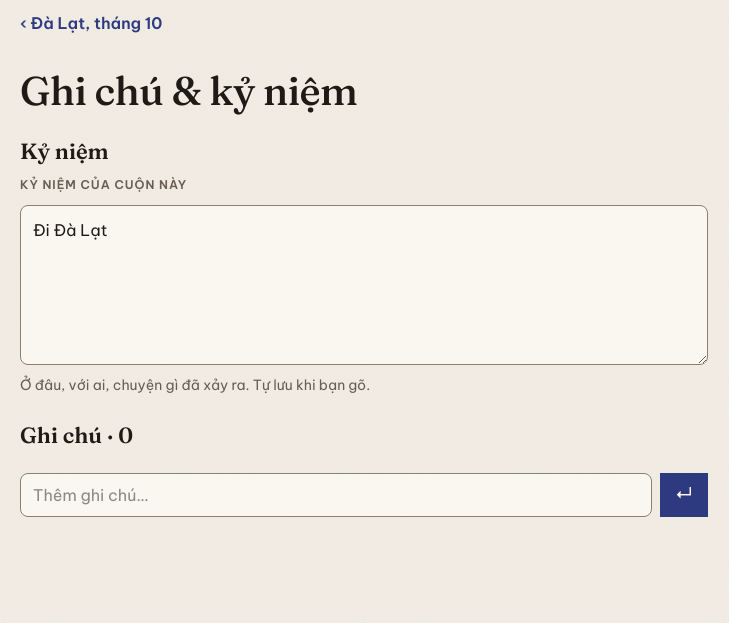
it: NotesMemory (NOTE-1, NotesMemory board) › adds a note from the composer
Type "lab ám xanh" into the field named "Ghi chú mới" at (336,495), box x1=20 y1=473 x2=652 y2=517
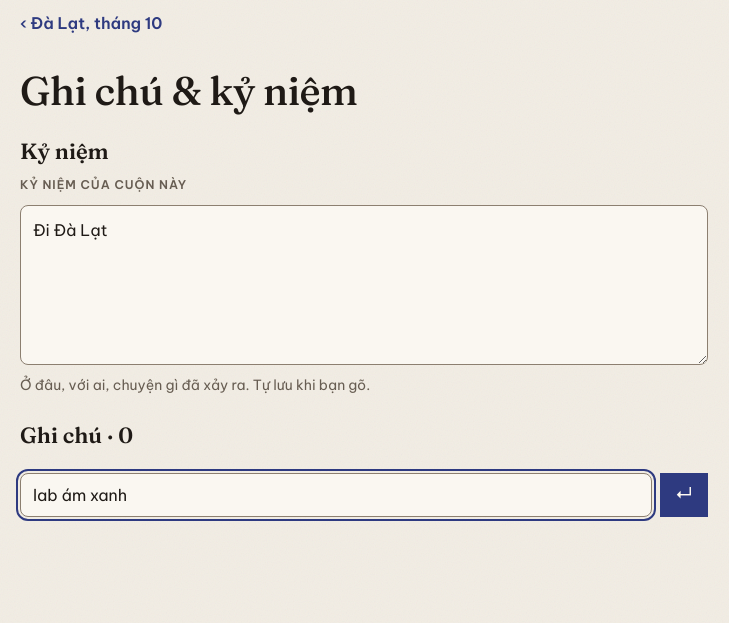
Click the button named "Lưu ghi chú" at (684,495), box x1=660 y1=473 x2=708 y2=517
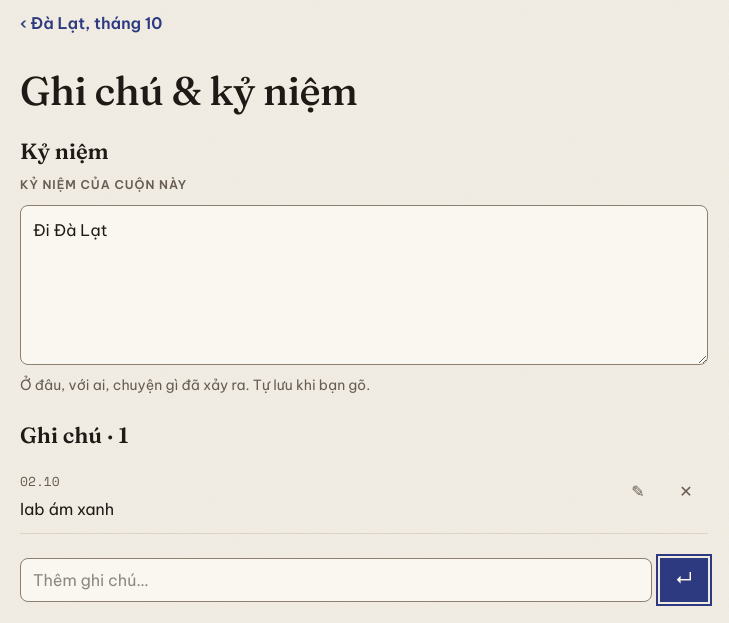
Expected: the text "lab ám xanh" is shown, x1=20 y1=499 x2=114 y2=519
Expected: the field named "Ghi chú mới" is empty, x1=20 y1=558 x2=652 y2=602
